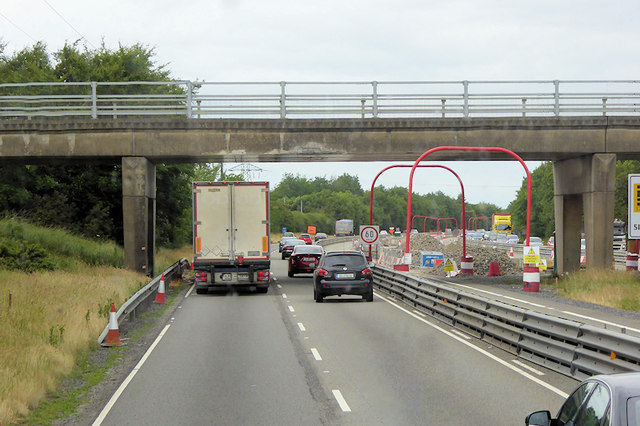bridge: (1, 81, 638, 159)
